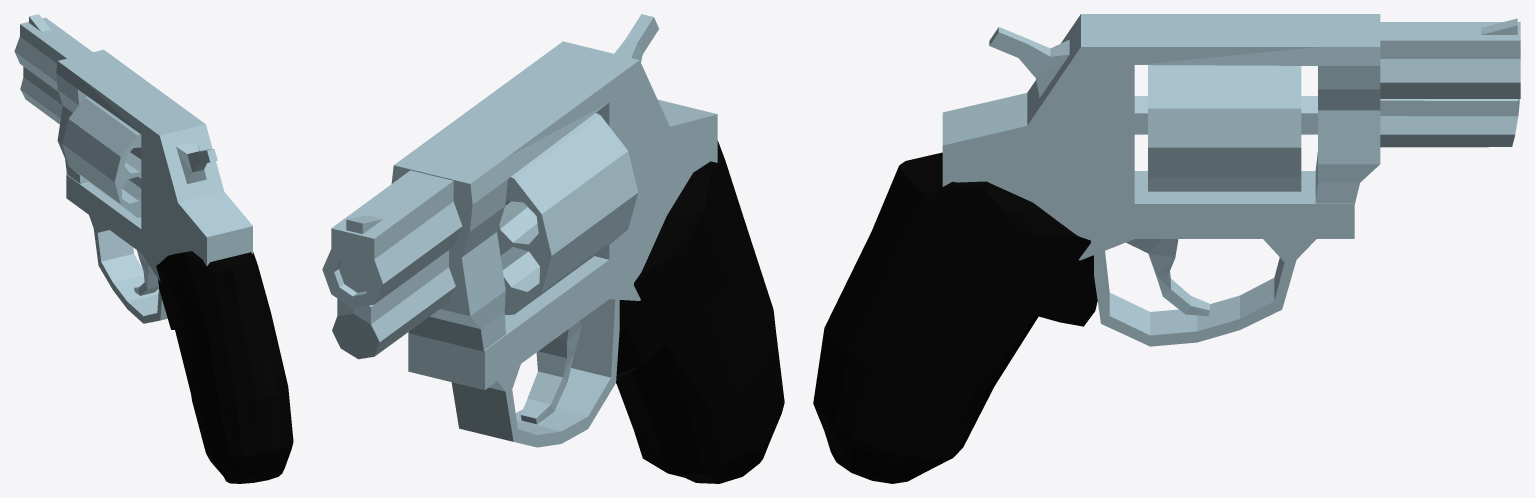
The model's file is gun_revolver_01.glb.
3 views of the same model, side by side, from view 1: azimuth 30°, elevation 25°; view 2: azimuth 150°, elevation 25°; view 3: azimuth 270°, elevation 25° (orthographic). The views are drawn at different scales.
Parts seen in each view (by area): view 1: revolver_01; view 2: revolver_01; view 3: revolver_01.
Boxes of the visible parts, left/top/right/bottom form: revolver_01: left=14, top=14, right=293, bottom=483; revolver_01: left=322, top=14, right=784, bottom=483; revolver_01: left=813, top=14, right=1520, bottom=483.
Size of the model in its own units: 0.0606 by 0.1976 by 0.28.
